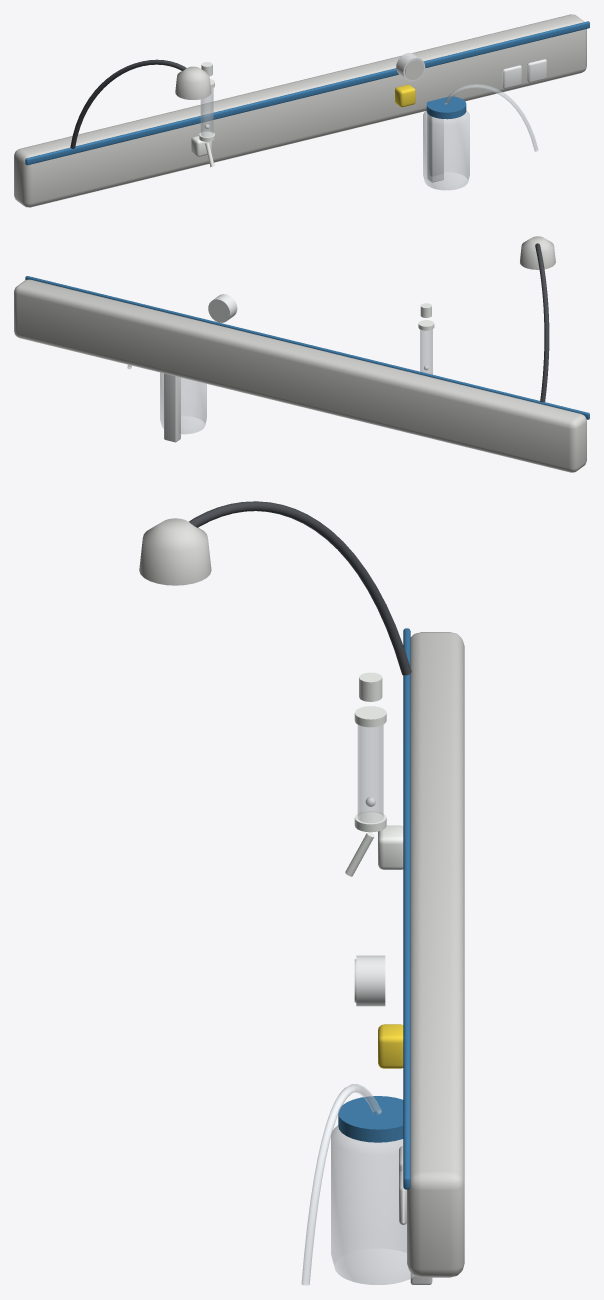
Rendered from rampe.glb.
The picture shows the model from 3 angles, top to bottom: view 1: azimuth 30°, elevation 25°; view 2: azimuth 150°, elevation 25°; view 3: azimuth 270°, elevation 25°; orthographic projection. The views are drawn at different scales.
Parts seen in each view (by area): view 1: rampe, Aspiration, Debitmetre; view 2: rampe, Aspiration, Debitmetre; view 3: rampe, Aspiration, Debitmetre.
Boxes of the visible parts, bbox=[...] form: rampe: bbox=[14, 14, 589, 207]; Aspiration: bbox=[395, 52, 538, 190]; Debitmetre: bbox=[191, 62, 214, 167]; rampe: bbox=[14, 236, 589, 472]; Aspiration: bbox=[127, 294, 237, 442]; Debitmetre: bbox=[418, 303, 434, 374]; rampe: bbox=[139, 501, 464, 1277]; Aspiration: bbox=[301, 955, 432, 1285]; Debitmetre: bbox=[345, 672, 403, 876].
Bounding box in the file's own units: 1.8 × 0.7085 × 0.45.
